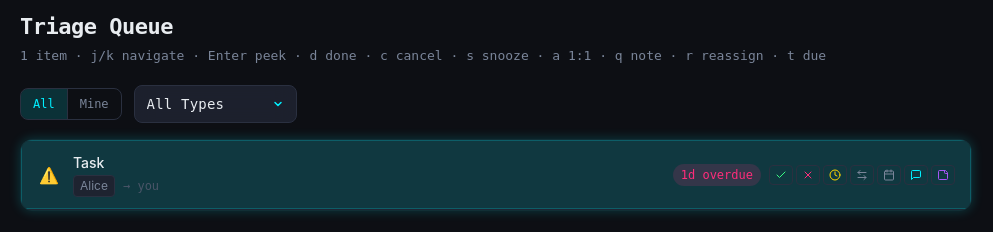
Test case: TriagePage › shows snooze submenu with 1d, 3d, 7d options
The width and height of the screenshot is (993, 232).
What coordinates should you click on to do the following:
click the button with test id "triage-snooze-btn"
I would click on:
 (835, 175)
Its box is [823,165,847,185].
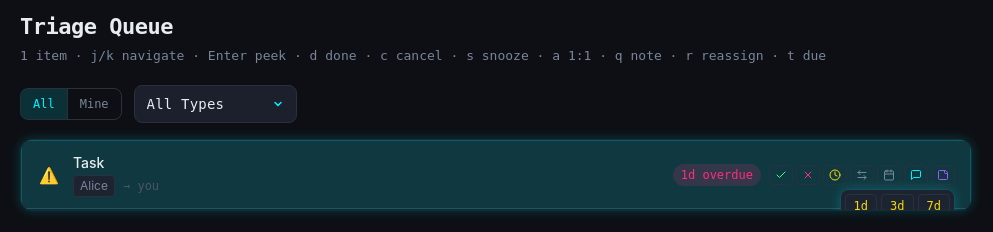
Check: the element with test id "triage-snooze-menu" is shown, box [840,189,955,211]
Check: the button "1d" is shown, box [845,194,877,211]
Check: the button "3d" is shown, box [881,194,914,211]
